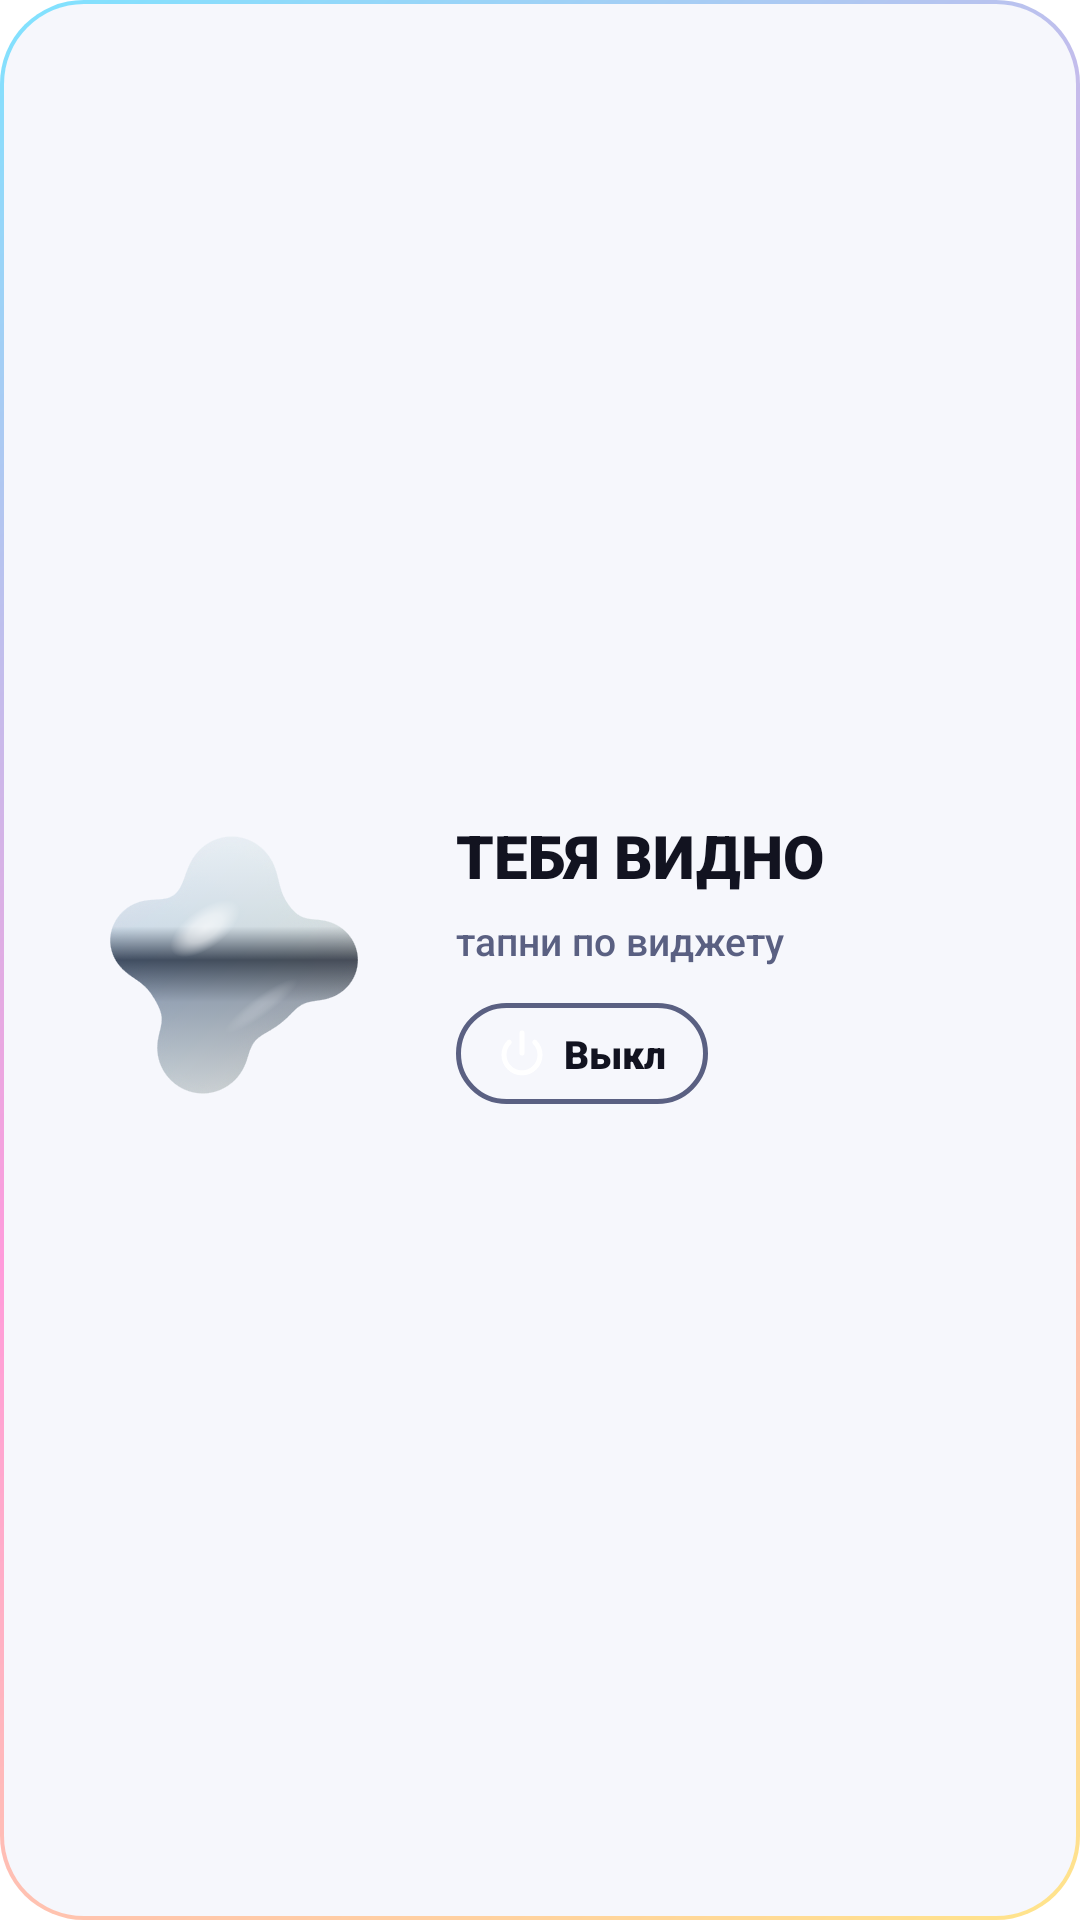

Locate icon controls on the screen. Image size 1080px×1920px, boxes as (x1, y1, x2, y2).
orb idle: (110, 872, 358, 1093)
